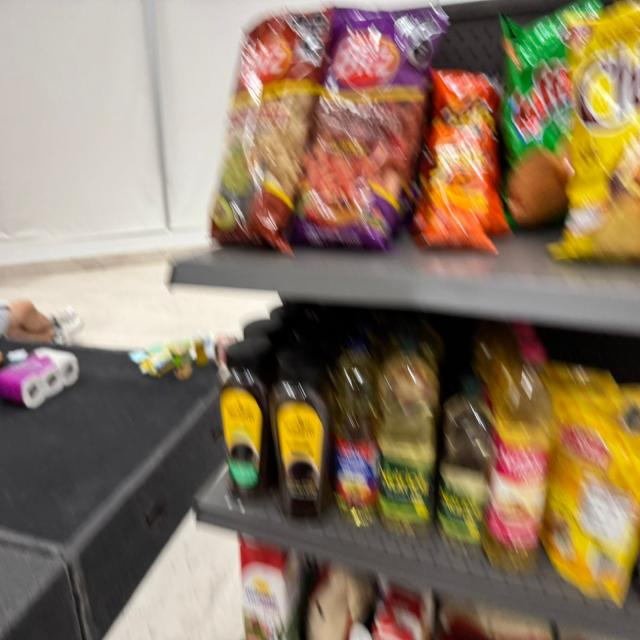ACEITE NUTRIOLI 400 ML: (439, 384, 495, 545)
ACEITE VEGETAL LA POSADA 800 ML: (339, 330, 377, 537)
Aceite Comestible Nutrioli 850ml: (384, 349, 438, 536)
Aceite Sabrosano 850ml: (489, 345, 551, 579)
CAFE SOLUBLE ANDATTI DESCAFEINADO 275G: (224, 340, 276, 496)
CHEETOS TORCIDITOS 240GR: (426, 122, 482, 255)
Cafe Soluble Andatti 275g: (274, 366, 334, 524)
Cheetos grandes: (428, 65, 514, 239)
Chicharron de Cerdo Natural Bitz 120 gr: (205, 2, 336, 254)
Frijol La Sierra Chorizo 430 bolsa: (557, 385, 640, 615)
PLC NUTRALAT FORTE 1 LT: (232, 538, 299, 640)
Papas Chips Barcel 170 gr bolsa con sal: (557, 1, 640, 263)
RUFFLES QUESO 185GR: (501, 6, 573, 228)
chicharrones de cerdo intenso: (294, 2, 452, 252)
